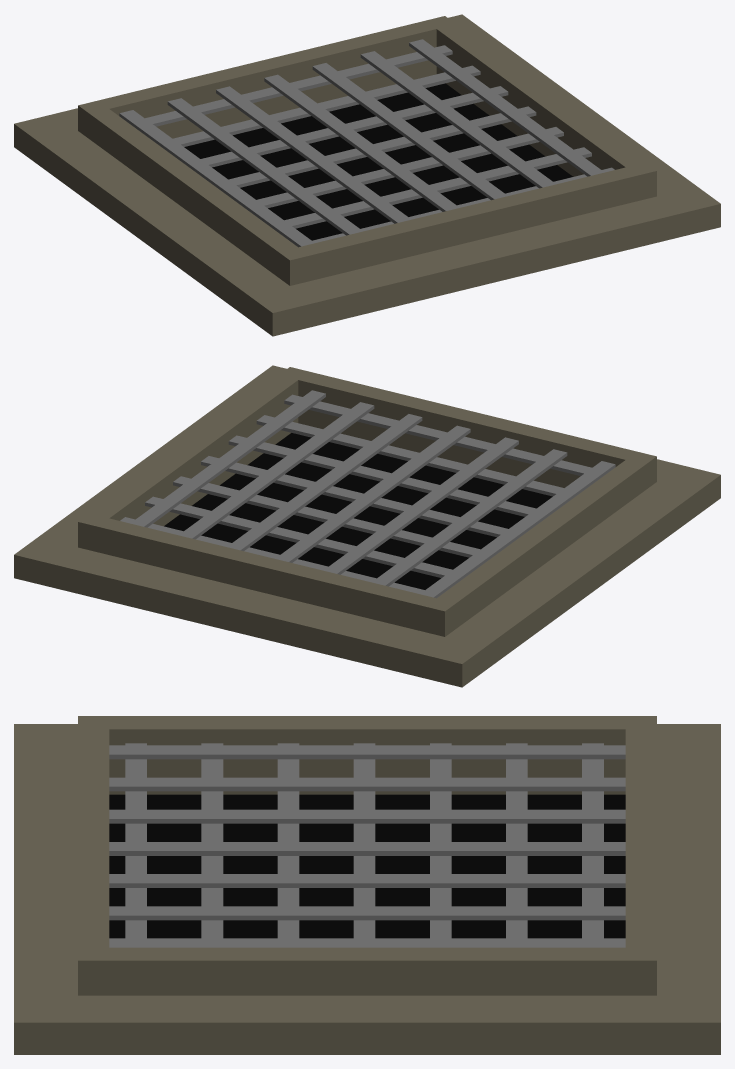
Rendered from Trapdoor.fbx.
The picture shows the model from 3 angles, top to bottom: view 1: azimuth 30°, elevation 25°; view 2: azimuth 150°, elevation 25°; view 3: azimuth 270°, elevation 25°; orthographic projection. The views are drawn at different scales.
Parts seen in each view (by area): view 1: Trapdoor; view 2: Trapdoor; view 3: Trapdoor.
Part boxes in pixels (x1,y1,x2,y2): Trapdoor: (14, 14, 720, 336); Trapdoor: (14, 365, 720, 687); Trapdoor: (14, 716, 720, 1054).
Bounding box in the file's own units: 100 × 10.46 × 100.
